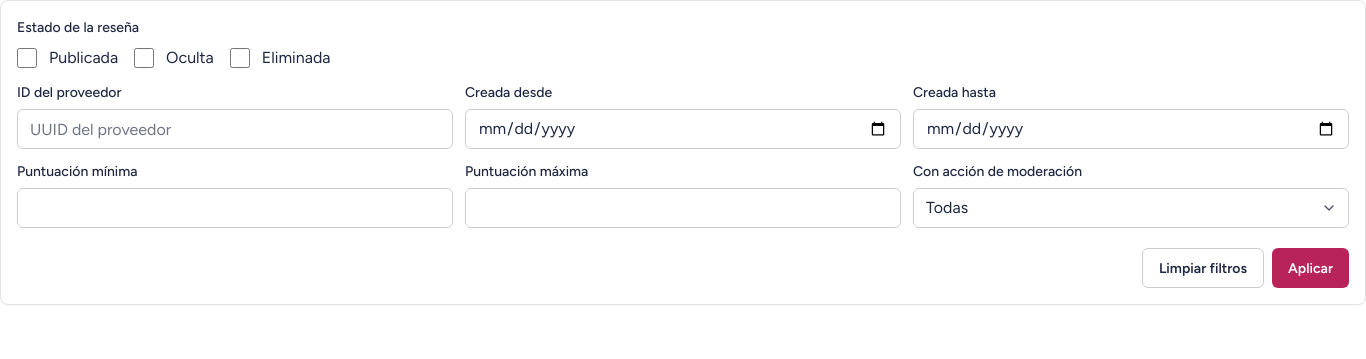
Test: US-077 · ReviewFiltersPanel › rating_min > rating_max ⇒ role=alert y submit deshabilitado
The image size is (1366, 359).
Type "5" into the number field labelled "Puntuación mínima" at [235, 208], box [17,188,453,228]
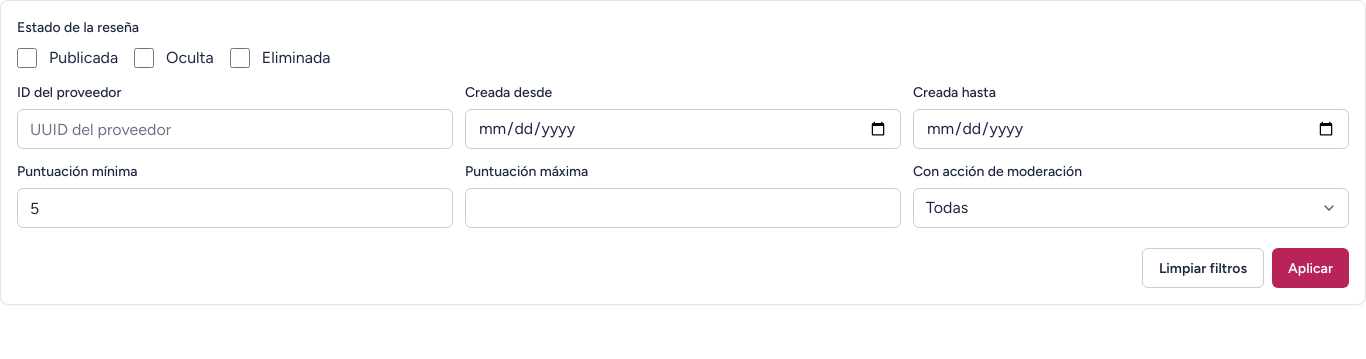
Type "1" into the number field labelled "Puntuación máxima" at [683, 208], box [465,188,901,228]
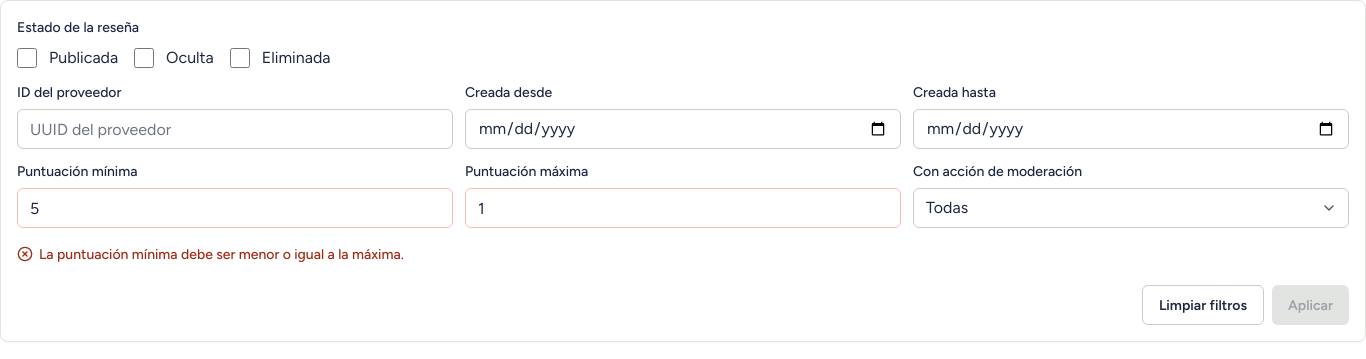
Expected: the message reads "La puntuación mínima debe ser menor o igual a la máxima.", [39,246,404,263]
Expected: the button "Aplicar" is disabled, [1272,285,1349,325]
